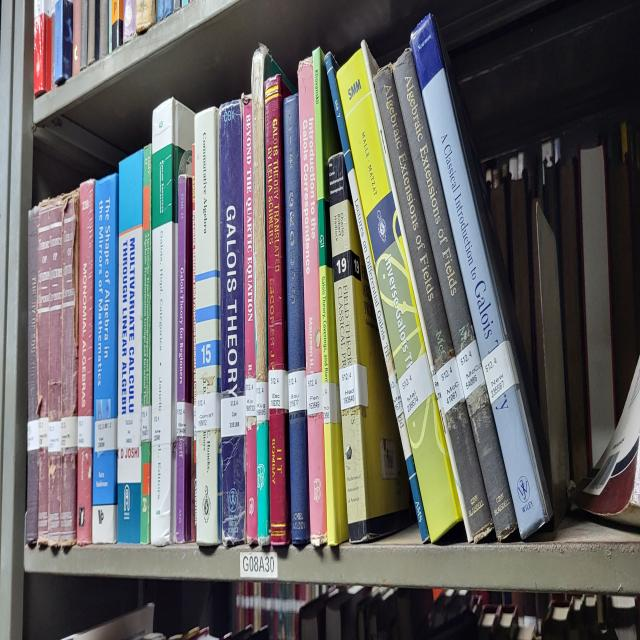Book: (410, 14, 552, 538), (392, 51, 518, 541), (336, 46, 461, 538), (375, 65, 492, 541), (325, 51, 429, 541), (379, 119, 472, 541), (329, 154, 410, 541), (150, 97, 194, 544), (312, 49, 349, 547), (251, 43, 279, 547), (298, 57, 326, 544), (264, 73, 291, 547), (219, 100, 246, 544), (194, 106, 221, 547), (284, 95, 310, 544), (118, 149, 144, 544), (92, 173, 119, 544), (242, 97, 258, 544), (176, 154, 194, 541), (76, 179, 95, 544), (60, 189, 79, 549), (48, 198, 62, 547), (36, 200, 50, 547), (140, 143, 152, 544), (26, 206, 39, 547)
Label: (399, 354, 434, 419), (482, 341, 516, 403), (456, 341, 485, 398), (436, 357, 464, 414), (339, 363, 369, 411), (221, 395, 245, 438), (118, 414, 140, 460), (389, 373, 405, 430), (196, 392, 220, 430), (322, 381, 341, 425), (95, 417, 118, 452), (269, 371, 289, 411), (306, 371, 322, 417), (289, 371, 306, 414), (151, 409, 171, 444), (176, 400, 194, 438), (255, 381, 269, 425), (61, 417, 78, 452), (431, 371, 444, 414), (78, 417, 94, 449), (48, 419, 61, 455), (245, 379, 256, 417), (28, 419, 39, 452), (141, 406, 151, 441), (39, 417, 49, 449)
